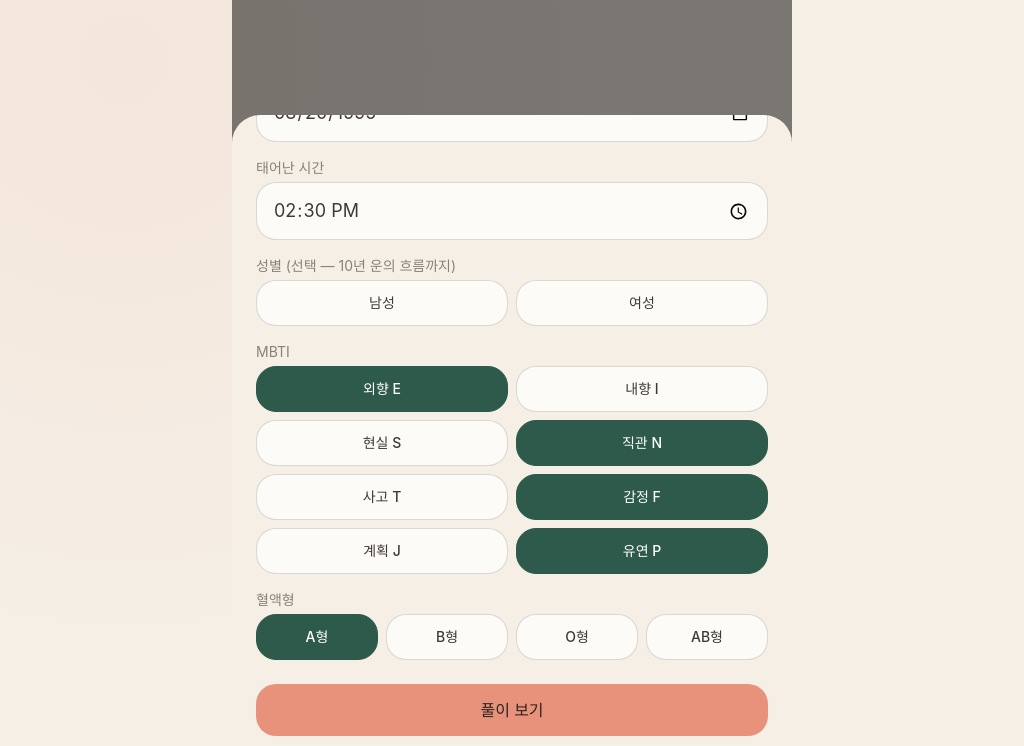
Test case: GuestReadingView — 게스트 총운/사주상품 뷰 (입력 시트 관문) › 완비된 draft로 채워진 시트에서 '풀이 보기'를 누르면 그 값으로 총운을 계산·렌더한다
(page scrolled)
What coordinates should you click on to do the following:
click the button "풀이 보기"
I would click on:
 (512, 710)
Its box is [256,684,768,736].
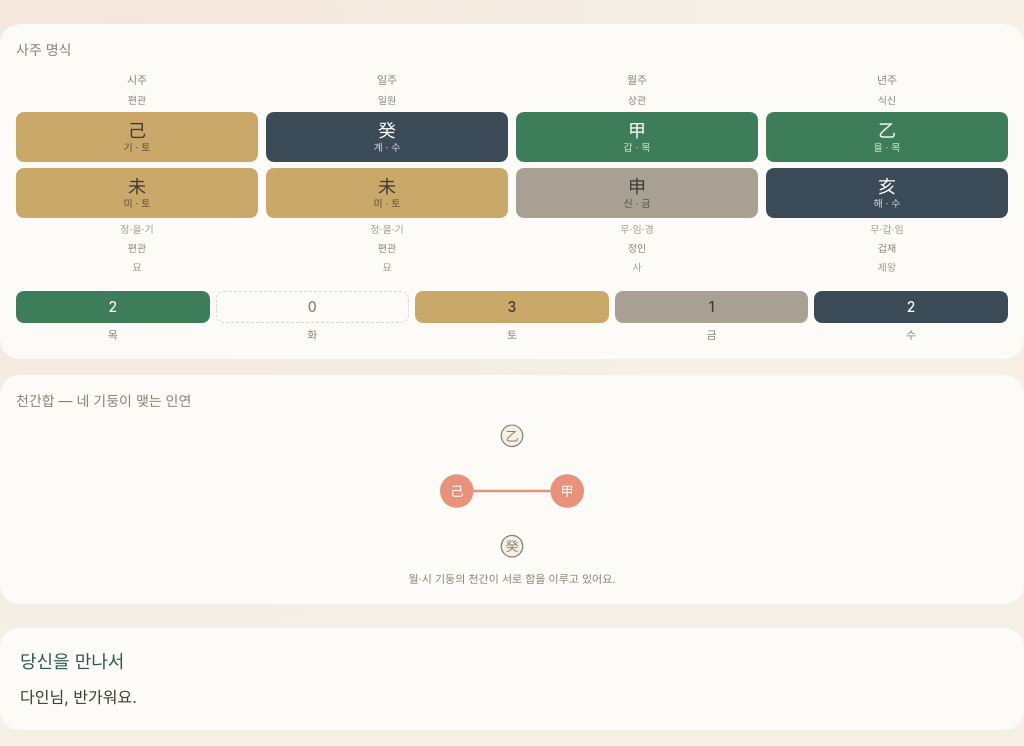
expect the heading "당신을 만나서" is shown: met, box [20,652,124,672]
expect the text "사주 명식" is shown: met, box [16,41,72,58]
expect the button "풀이 보기" is gone: met
